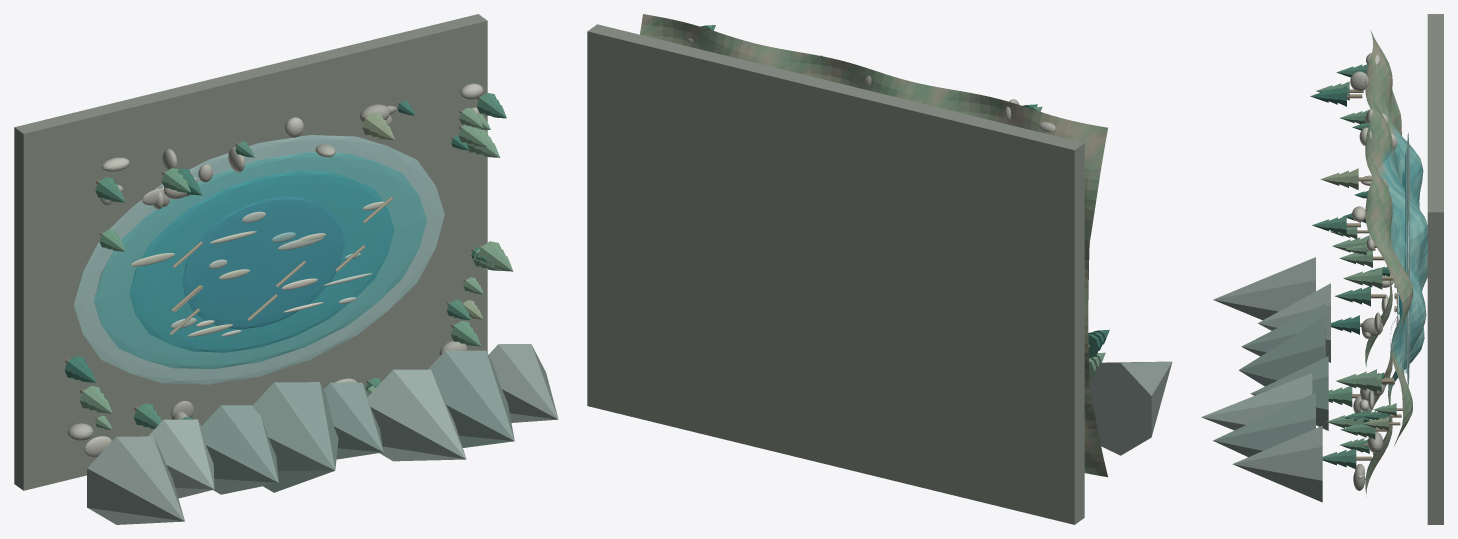
Rendered from five-flower-lake.glb.
3 renders of one model, left to right at view 1: azimuth 30°, elevation 25°; view 2: azimuth 150°, elevation 25°; view 3: azimuth 270°, elevation 25°, orthographic. The views are drawn at different scales.
Visible parts, largest first — view 1: part_0000, part_0004, part_0003, part_0005, part_0002, part_0192, part_0202, part_0198, part_0204, part_0196, part_0206, part_0194 (+1 smaller); view 2: part_0000, part_0001, part_0192; view 3: part_0001, part_0000, part_0206, part_0192, part_0204, part_0198, part_0202, part_0194, part_0200, part_0196, part_0002, part_0003 (+1 smaller).
Part boxes in pixels (left/top/right/bottom): part_0000: left=14, top=14, right=487, bottom=490; part_0004: left=129, top=171, right=394, bottom=352; part_0003: left=94, top=152, right=426, bottom=368; part_0005: left=182, top=196, right=344, bottom=329; part_0002: left=73, top=135, right=444, bottom=384; part_0192: left=87, top=436, right=184, bottom=524; part_0202: left=367, top=369, right=466, bottom=461; part_0198: left=252, top=382, right=338, bottom=492; part_0204: left=428, top=350, right=514, bottom=447; part_0196: left=200, top=405, right=278, bottom=494; part_0206: left=488, top=344, right=558, bottom=422; part_0194: left=148, top=419, right=214, bottom=498; part_0000: left=587, top=24, right=1084, bottom=524; part_0001: left=640, top=14, right=1107, bottom=477; part_0192: left=1089, top=361, right=1172, bottom=455; part_0001: left=1365, top=30, right=1427, bottom=497; part_0000: left=1427, top=14, right=1443, bottom=524; part_0206: left=1232, top=425, right=1322, bottom=502; part_0192: left=1213, top=257, right=1315, bottom=320; part_0204: left=1213, top=392, right=1315, bottom=457; part_0198: left=1239, top=317, right=1324, bottom=386; part_0202: left=1201, top=373, right=1312, bottom=430; part_0194: left=1258, top=283, right=1330, bottom=362; part_0200: left=1250, top=356, right=1328, bottom=430; part_0196: left=1241, top=303, right=1325, bottom=357; part_0002: left=1407, top=133, right=1410, bottom=386; part_0003: left=1404, top=148, right=1406, bottom=373.
Size of the model in its own units: 2.45 by 1.83 by 1.27.
